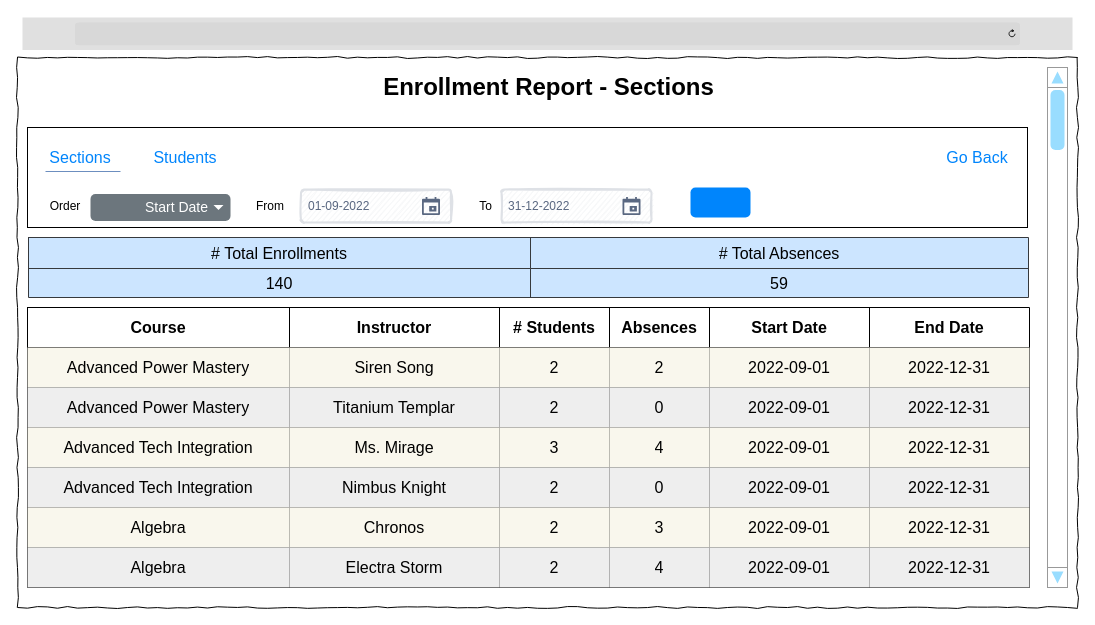
Some shapes in this 1095 by 625 pixel diagram are drawn without their labels. Each missing label, with the centre of its shape:
"Apply" goes at point 720,202.
"fourthwallacademy.com/Dashboard/Sections" goes at point 547,33.
